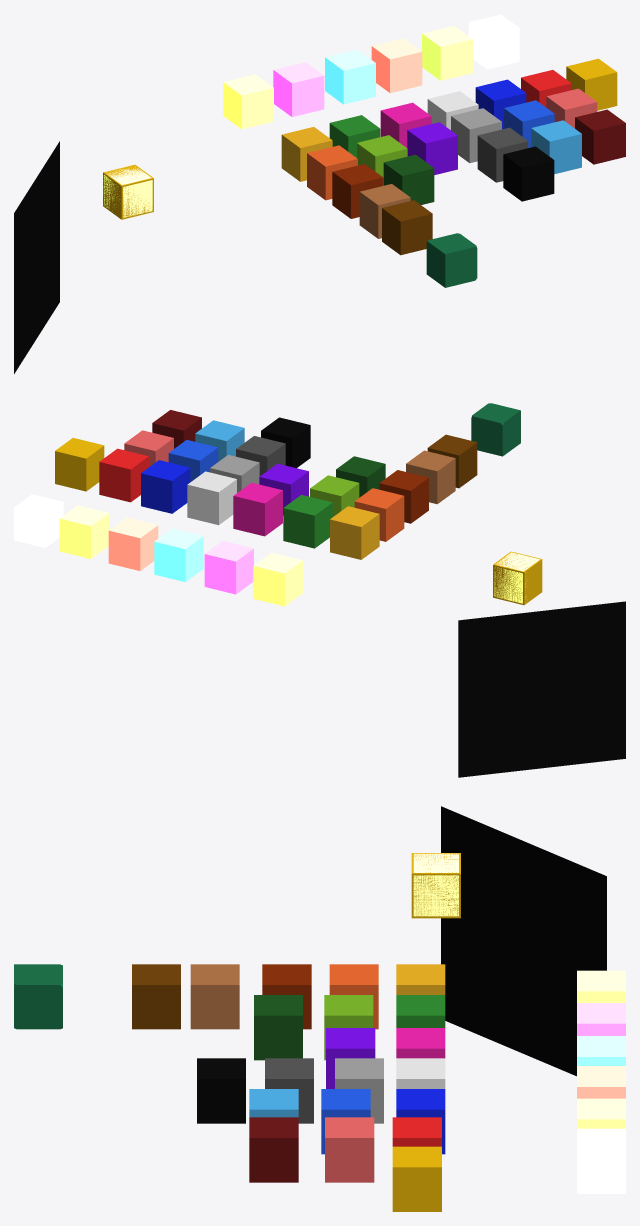
The model's file is stone-dice.glb.
The picture shows the model from 3 angles, top to bottom: view 1: azimuth 30°, elevation 25°; view 2: azimuth 150°, elevation 25°; view 3: azimuth 270°, elevation 25°; orthographic projection. The views are drawn at different scales.
Visible parts, largest first — view 1: Plane.001, stone-black, stone-dice, glow-magenta, glow-cyan, glow-yellow, glow-green, stone-darkbrown, glow-white, glow-red, stone-darkred, stone-purple (+19 smaller); view 2: Plane.001, glow-yellow, stone-pink, stone-yellow, glow-magenta, glow-cyan, glow-green, glow-red, stone-dice, stone-white, stone-green, stone-darkblue (+19 smaller); view 3: Plane.001, stone-darkred, stone-lightred, stone-lightbrown, metal-gold, stone-darkbrown, glow-white, stone-black, stone-dice, stone-darkgreen, example, stone-darkgray (+19 smaller).
Boxes of the visible parts, x1,y1,x2,y2 form: Plane.001: (14, 141, 59, 373); stone-black: (503, 146, 554, 201); stone-dice: (426, 233, 477, 287); glow-magenta: (273, 62, 324, 116); glow-cyan: (325, 49, 375, 104); glow-yellow: (223, 74, 273, 129); glow-green: (422, 26, 472, 80); stone-darkbrown: (382, 200, 432, 255); glow-white: (468, 14, 519, 69); glow-red: (371, 38, 422, 93); stone-darkred: (575, 109, 625, 164); stone-purple: (407, 122, 457, 174); Plane.001: (458, 601, 625, 777); glow-yellow: (253, 552, 302, 606); stone-pink: (233, 482, 282, 536); stone-yellow: (330, 506, 379, 559); glow-magenta: (204, 541, 253, 594); glow-cyan: (154, 528, 203, 582); glow-green: (59, 505, 108, 558); glow-red: (108, 517, 158, 570); stone-dice: (471, 403, 520, 456); stone-white: (187, 471, 236, 525); stone-green: (283, 495, 332, 548); stone-darkblue: (141, 460, 190, 513); Plane.001: (441, 806, 606, 1076); stone-darkred: (249, 1117, 298, 1182); stone-lightred: (325, 1117, 374, 1182); stone-lightbrown: (190, 964, 239, 1029); metal-gold: (392, 1146, 441, 1211); stone-darkbrown: (132, 964, 180, 1029); glow-white: (577, 1128, 625, 1193); stone-black: (197, 1058, 245, 1123); stone-dice: (14, 964, 62, 1029); stone-darkgreen: (254, 995, 302, 1060); example: (413, 853, 458, 916); stone-darkgray: (265, 1058, 313, 1123).
Size of the model in its own units: 18.15 by 5.13 by 12.46.
